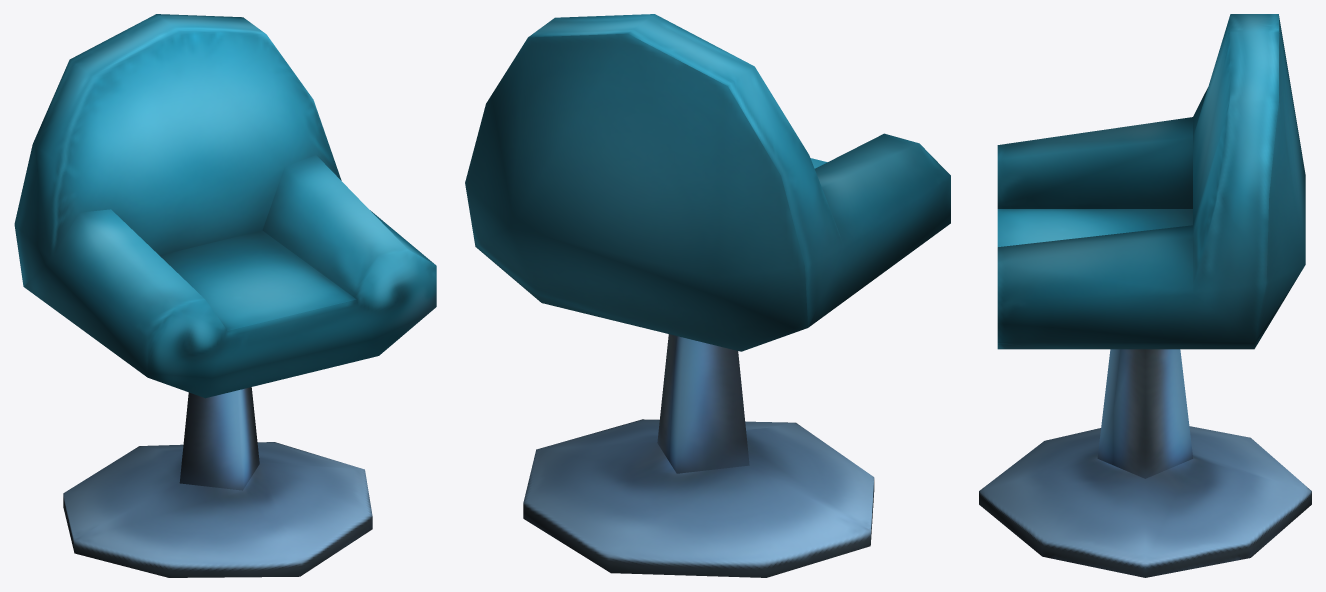
Rendered from chair01.DAE.
3 renders of one model, left to right at view 1: azimuth 30°, elevation 25°; view 2: azimuth 150°, elevation 25°; view 3: azimuth 270°, elevation 25°, orthographic. The views are drawn at different scales.
Visible parts, largest first — view 1: chair_01-Pivot; view 2: chair_01-Pivot; view 3: chair_01-Pivot.
Boxes of the visible parts, x1,y1,x2,y2 form: chair_01-Pivot: [14, 14, 436, 577]; chair_01-Pivot: [465, 14, 950, 577]; chair_01-Pivot: [979, 14, 1311, 577].
Size of the model in its own units: 135 by 200 by 127.
Materials: 1 (1 with a texture image).
